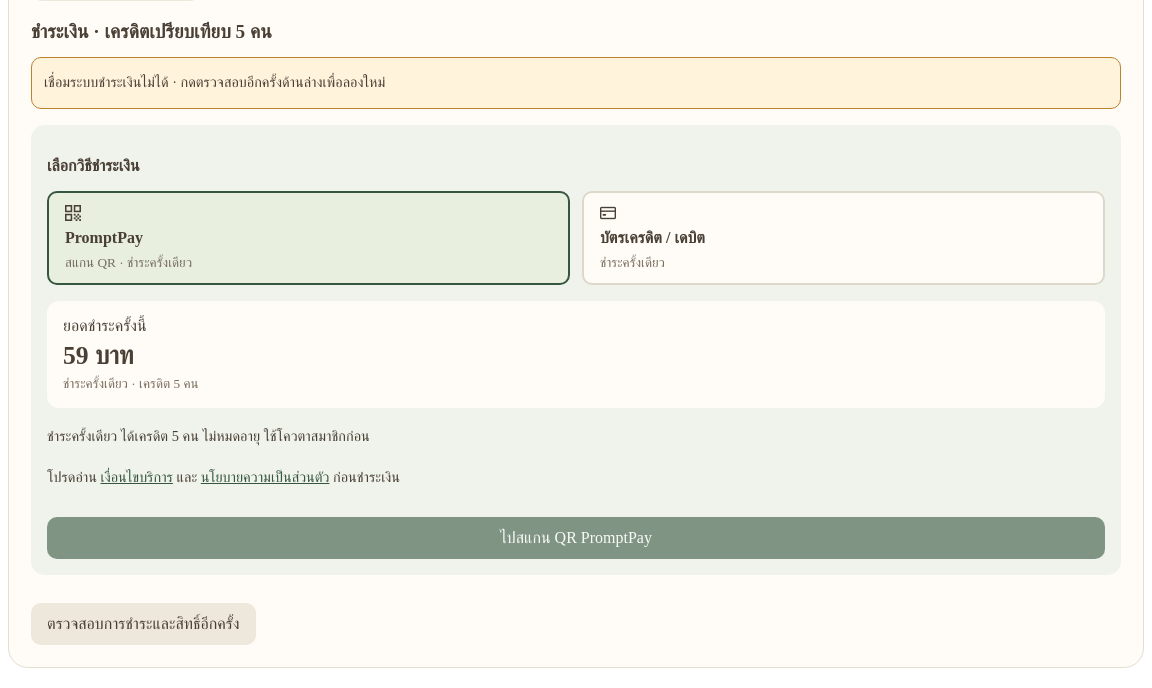
it: billing panel › allows retry after a status failure without creating a checkout
(page scrolled)
Expected: the button "ไปสแกน QR PromptPay" is disabled, top-left (47, 517), bottom-right (1105, 559)
Click the button "ตรวจสอบการชำระและสิทธิ์อีกครั้ง": x=143, y=624 top-left (31, 603), bottom-right (256, 645)
(page scrolled)
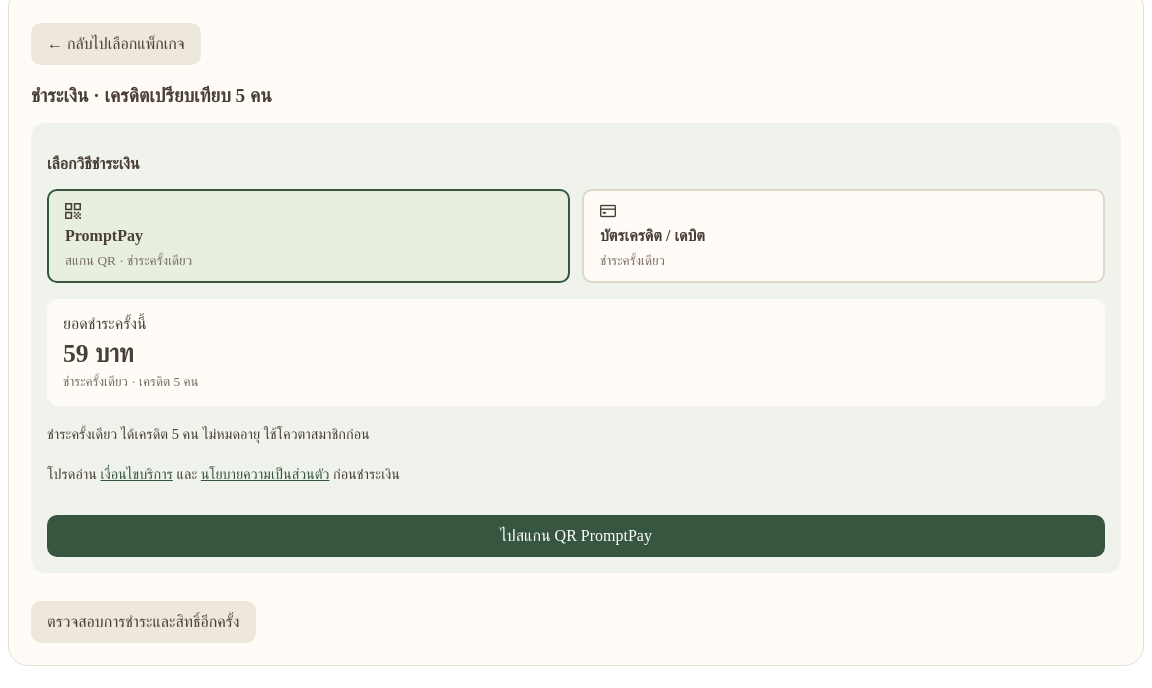
Expected: the element showing "ยอดชำระครั้งนี้ 59 บาท ชำระครั้งเดียว · เครดิต 5 คน" is shown, top-left (47, 299), bottom-right (1105, 406)
Result: the button "ไปสแกน QR PromptPay" is enabled at top-left (47, 515), bottom-right (1105, 557)
